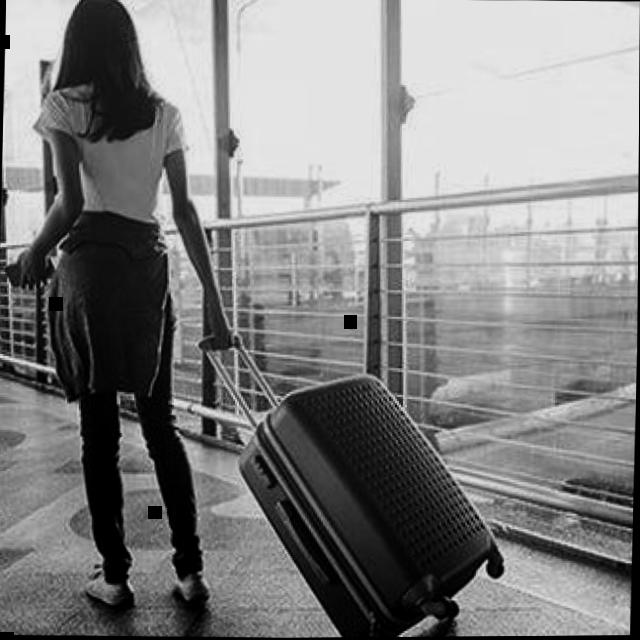luggage: (230, 367, 503, 639)
